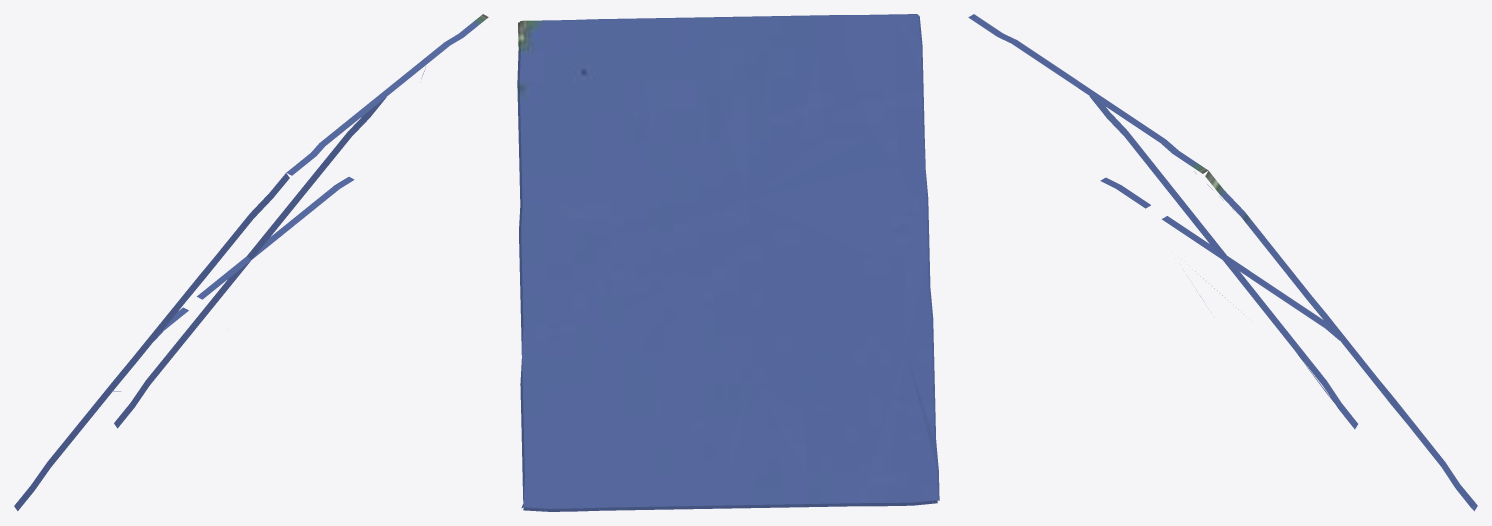
3 views of the same model, side by side, from view 1: azimuth 30°, elevation 25°; view 2: azimuth 150°, elevation 25°; view 3: azimuth 270°, elevation 25° (orthographic). The views are drawn at different scales.
Size of the model in its own units: 316294 by 260408 by 292885.
1 material, 1 textured.
